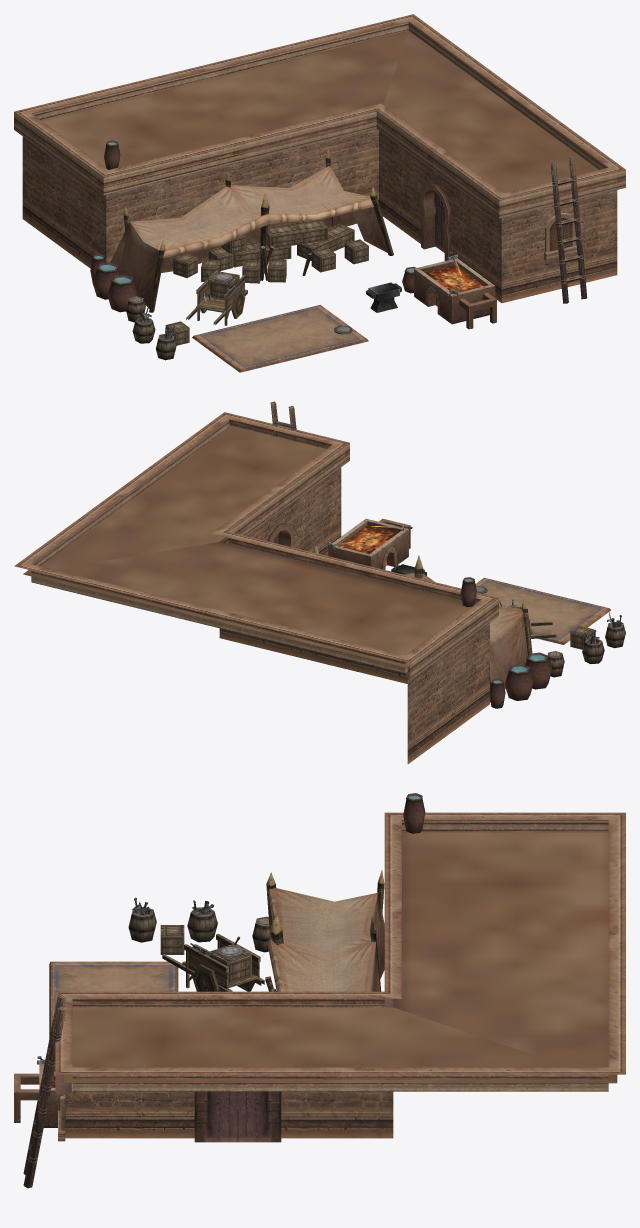
File: SC_huangmo_09.FBX
The picture shows the model from 3 angles, top to bottom: view 1: azimuth 30°, elevation 25°; view 2: azimuth 150°, elevation 25°; view 3: azimuth 270°, elevation 25°; orthographic projection. The views are drawn at different scales.
Parts seen in each view (by area): view 1: SC_huangmo_09; view 2: SC_huangmo_09; view 3: SC_huangmo_09.
Boxes of the visible parts, x1,y1,x2,y2 form: SC_huangmo_09: (14, 14, 625, 372); SC_huangmo_09: (14, 401, 625, 763); SC_huangmo_09: (14, 793, 625, 1188).
Bounding box in the file's own units: 2301 × 671 × 2077.
